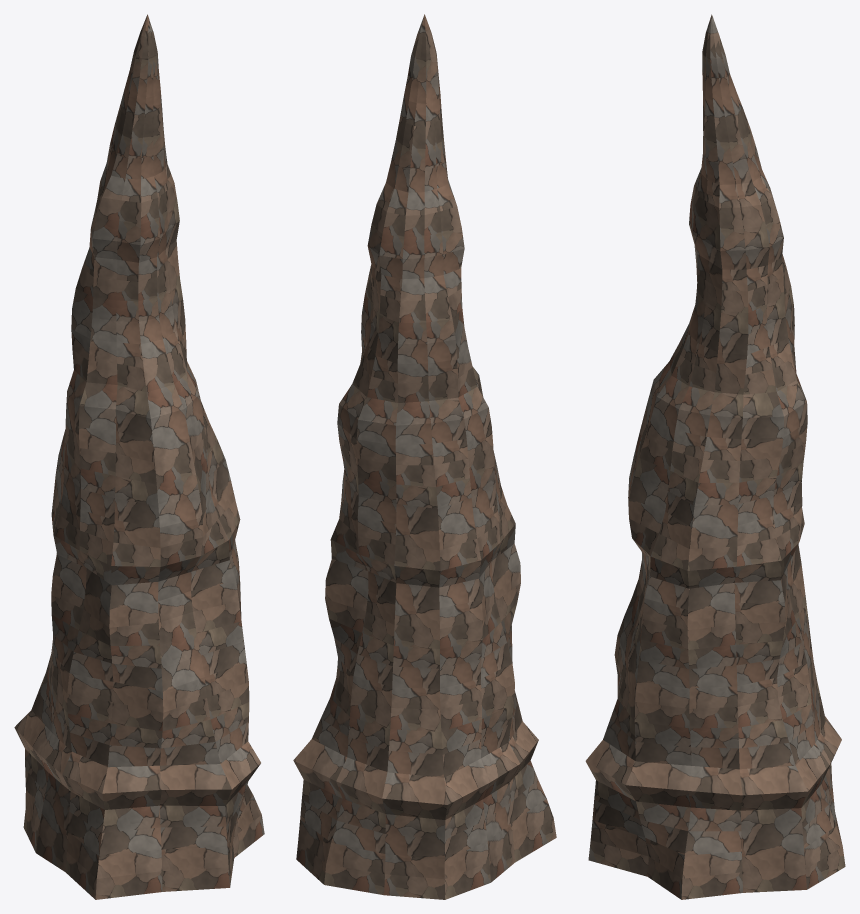
File: CanyonSpireLow.gltf
The picture shows the model from 3 angles, left to right: view 1: azimuth 30°, elevation 25°; view 2: azimuth 150°, elevation 25°; view 3: azimuth 270°, elevation 25°; orthographic projection.
Parts seen in each view (by area): view 1: CanyonSpireLow; view 2: CanyonSpireLow; view 3: CanyonSpireLow.
Part boxes in pixels (box(x1,y1,x2,y2)): CanyonSpireLow: box(14, 14, 264, 899); CanyonSpireLow: box(293, 14, 556, 899); CanyonSpireLow: box(585, 14, 845, 899).
Bounding box in the file's own units: 20.72 × 85 × 23.96.
Materials: 1 (1 with a texture image).
